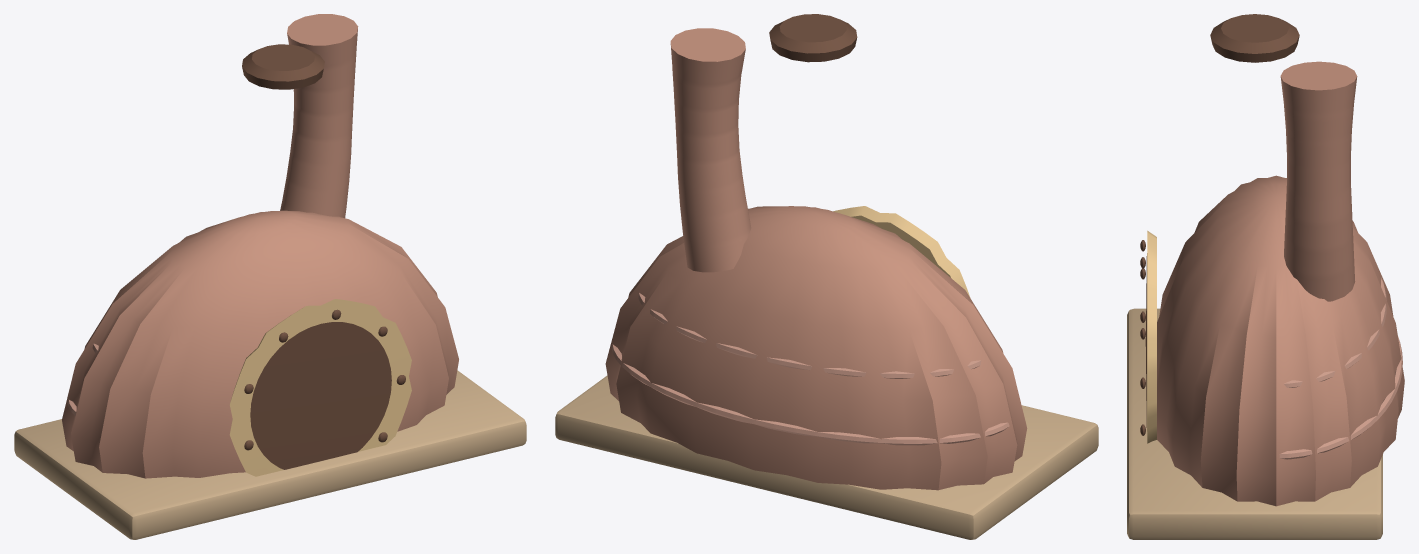
The model's file is Landmark_MagicOven.fbx.
The picture shows the model from 3 angles, left to right: view 1: azimuth 30°, elevation 25°; view 2: azimuth 150°, elevation 25°; view 3: azimuth 270°, elevation 25°; orthographic projection. The views are drawn at different scales.
Parts seen in each view (by area): view 1: Landmark_MagicOven; view 2: Landmark_MagicOven; view 3: Landmark_MagicOven.
Boxes of the visible parts, x1,y1,x2,y2 form: Landmark_MagicOven: (14, 14, 526, 539); Landmark_MagicOven: (555, 14, 1098, 539); Landmark_MagicOven: (1127, 14, 1404, 539).
Size of the model in its own units: 46 by 43.75 by 26.06.
